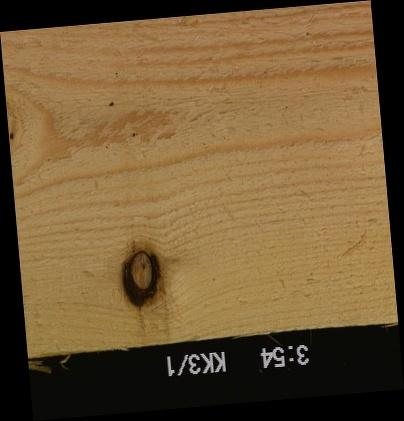small_knot: (8, 130, 15, 141)
